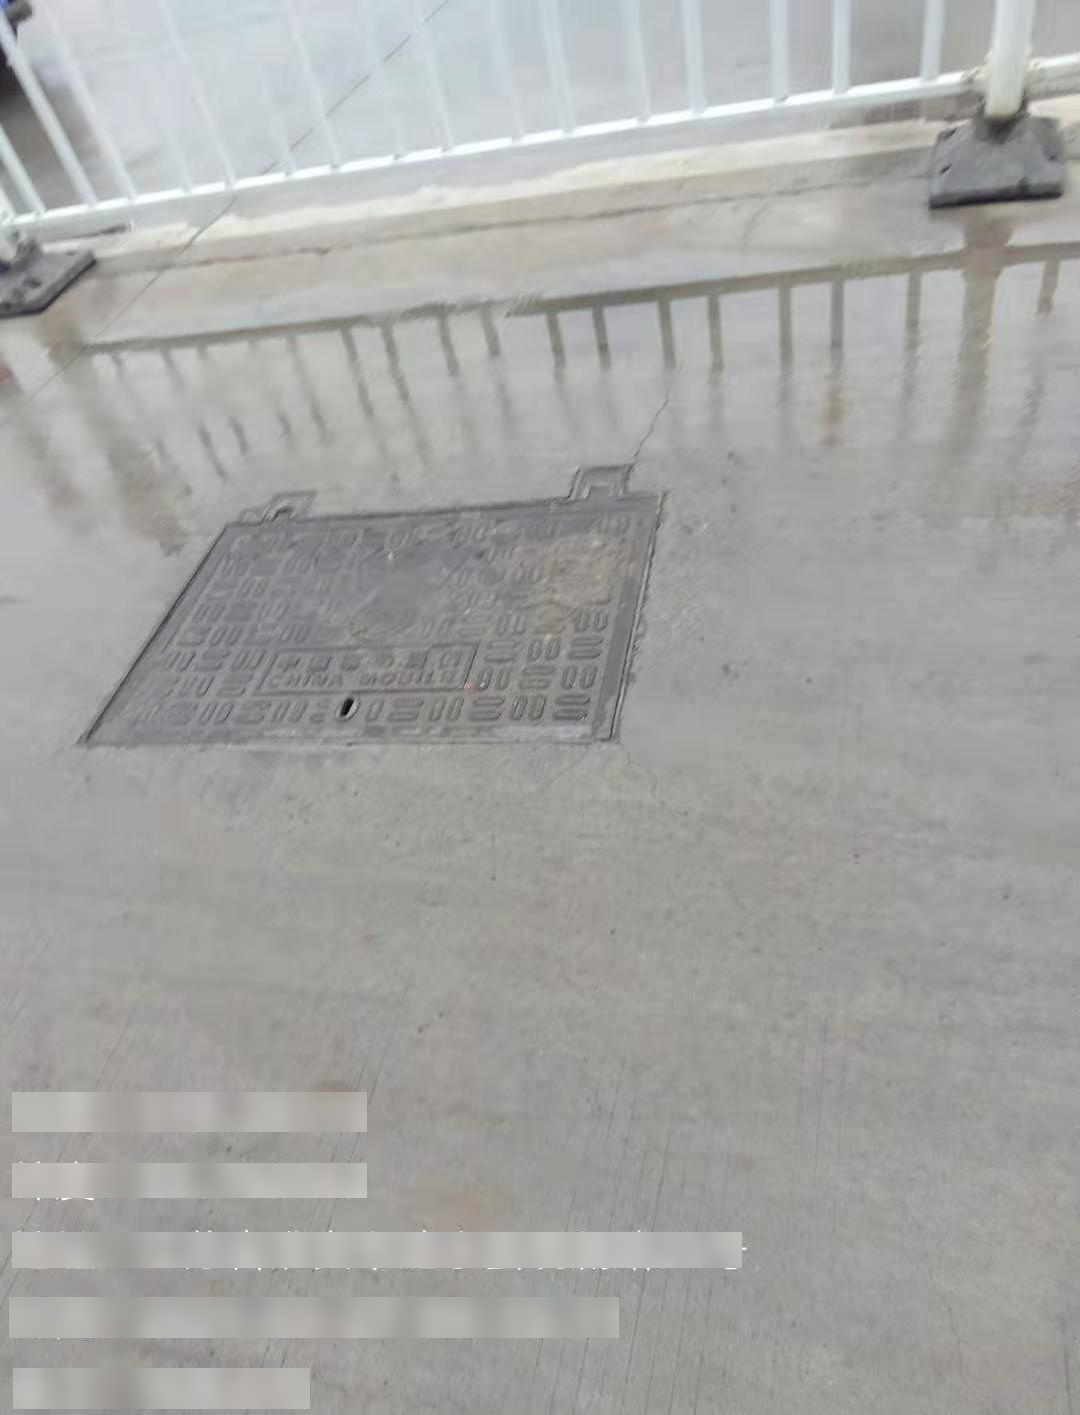well: (77, 468, 677, 753)
